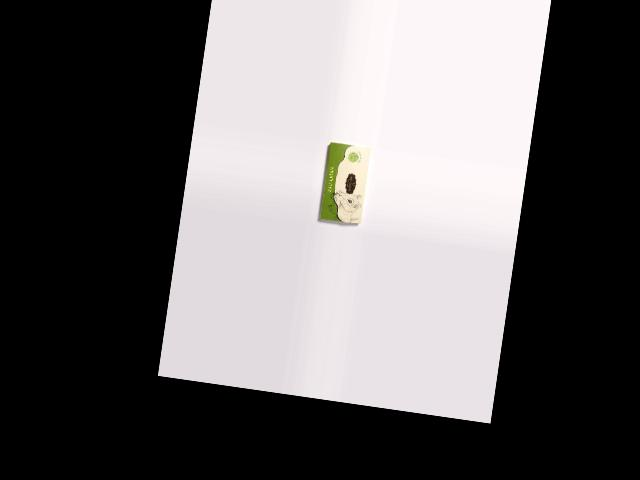chocolate: (318, 140, 372, 225)
